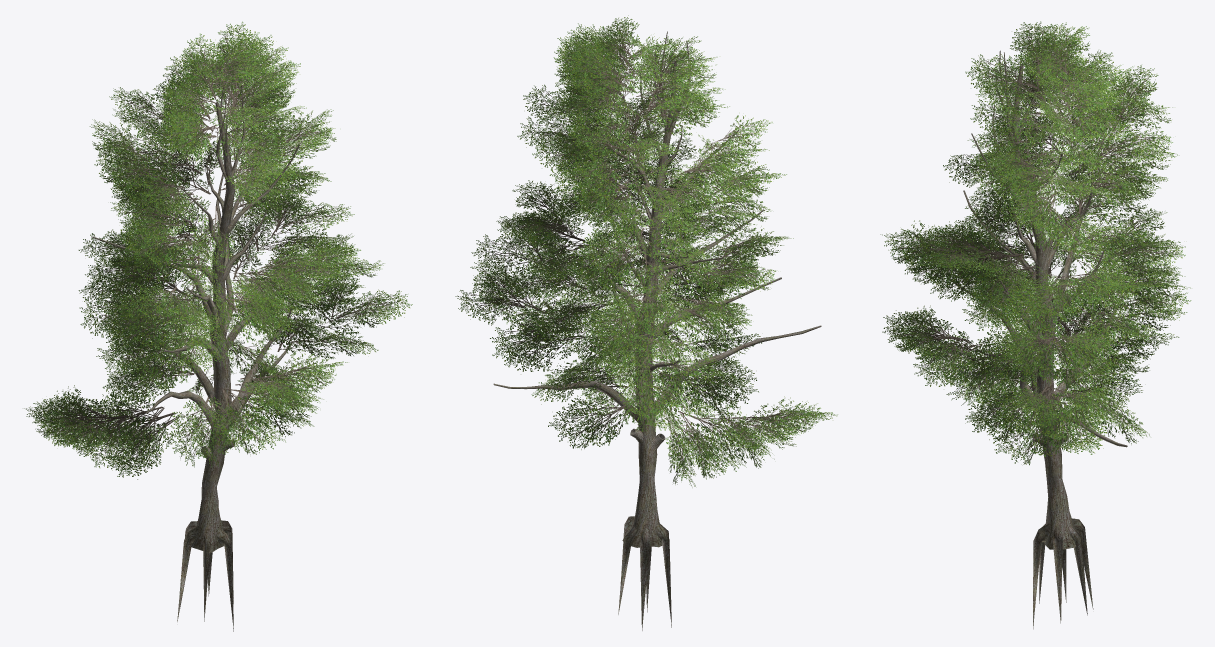
File: tree.fbx
The picture shows the model from 3 angles, left to right: view 1: azimuth 30°, elevation 25°; view 2: azimuth 150°, elevation 25°; view 3: azimuth 270°, elevation 25°; orthographic projection. The views are drawn at different scales.
Parts seen in each view (by area): view 1: Object_7, Object_5; view 2: Object_7, Object_5; view 3: Object_7, Object_5.
Part boxes in pixels (box(x1,y1,x2,y2)): Object_7: box(24, 21, 412, 479); Object_5: box(92, 85, 299, 631); Object_7: box(455, 15, 837, 487); Object_5: box(493, 31, 821, 630); Object_7: box(880, 21, 1191, 465); Object_5: box(948, 50, 1127, 629).
Bounding box in the file's own units: 451 × 683 × 334.
2 materials, 2 textured.
